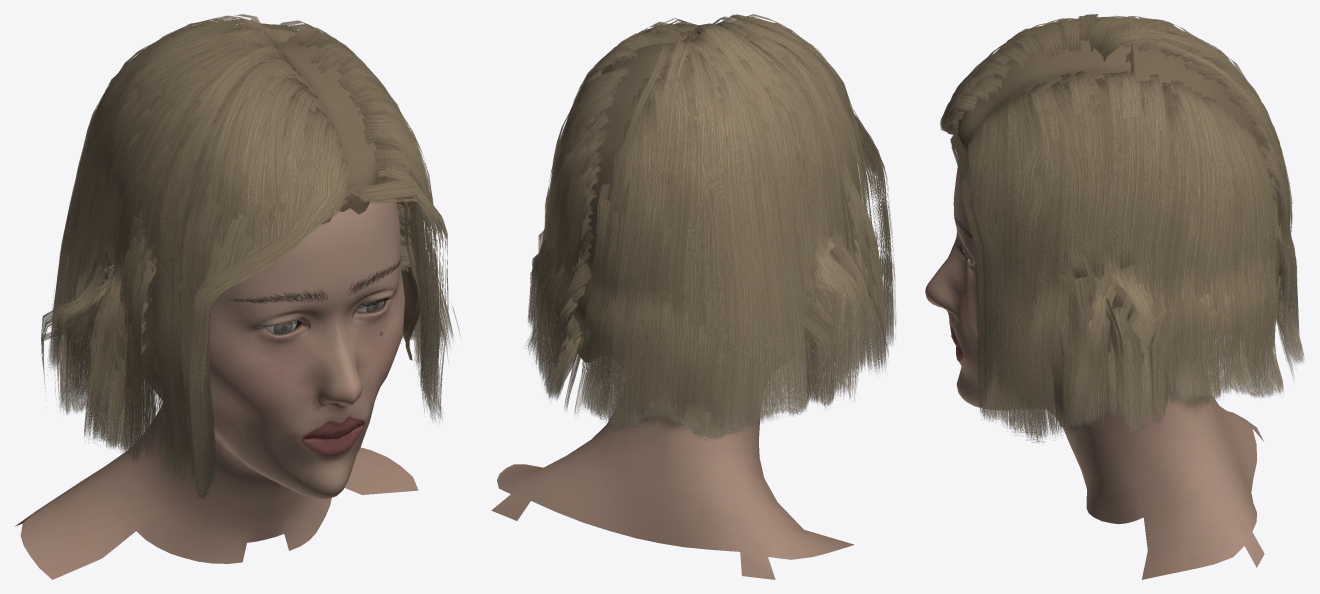
File: head.glb
3 renders of one model, left to right at view 1: azimuth 30°, elevation 25°; view 2: azimuth 150°, elevation 25°; view 3: azimuth 270°, elevation 25°, orthographic. The views are drawn at different scales.
Visible parts, largest first — view 1: hair-cards, zhiwei, hair-shell, brows; view 2: hair-cards, zhiwei, hair-shell; view 3: hair-cards, zhiwei, hair-shell.
Boxes of the visible parts, <box> form: hair-cards: <box>41,14,460,498</box>; zhiwei: <box>15,198,418,579</box>; hair-shell: <box>98,23,421,419</box>; brows: <box>224,259,401,303</box>; hair-cards: <box>525,14,896,439</box>; zhiwei: <box>491,358,853,579</box>; hair-shell: <box>569,24,836,362</box>; hair-cards: <box>940,14,1304,442</box>; zhiwei: <box>925,166,1264,579</box>; hair-shell: <box>955,26,1282,384</box>.
Size of the model in its own units: 0.2514 by 0.3254 by 0.2371.
Materials: 11 (4 with a texture image).
